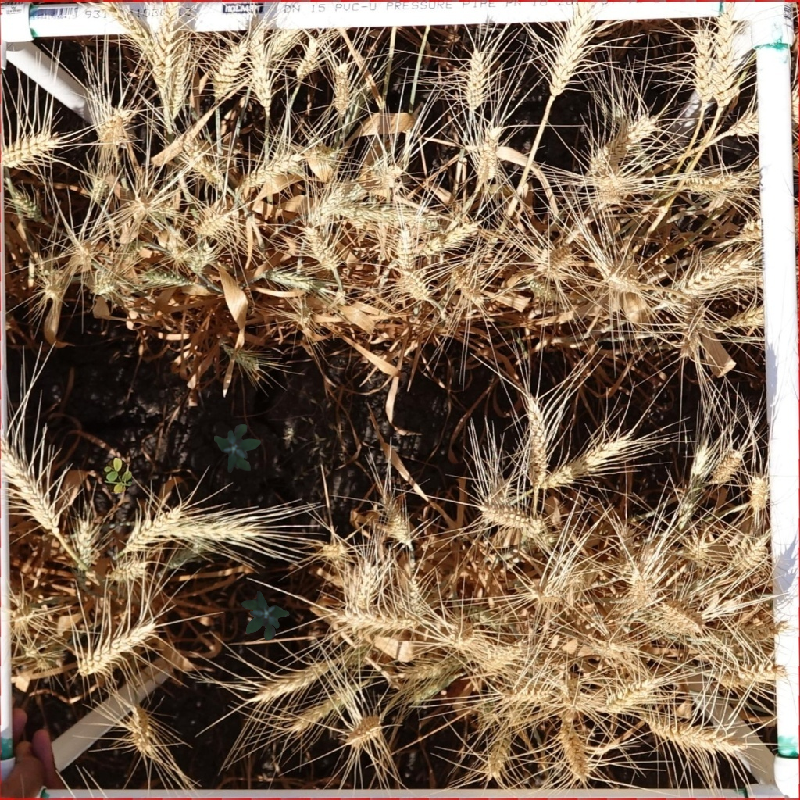spikelet: (1, 443, 66, 538), (539, 427, 636, 490), (653, 251, 752, 311), (541, 4, 599, 101), (144, 12, 194, 124), (72, 616, 159, 678), (641, 708, 746, 758), (256, 656, 337, 713), (669, 437, 716, 532), (622, 525, 671, 610), (292, 686, 365, 738), (167, 511, 262, 550), (517, 390, 554, 484), (106, 2, 159, 67), (121, 501, 186, 553), (241, 144, 307, 195), (601, 109, 659, 167), (710, 7, 739, 118), (596, 669, 665, 715), (303, 175, 364, 226), (475, 495, 547, 538), (208, 34, 252, 103), (528, 560, 602, 601), (554, 715, 598, 783), (2, 123, 62, 171), (499, 666, 564, 710), (244, 29, 278, 113), (769, 588, 800, 679), (458, 42, 495, 117), (641, 598, 706, 640), (688, 9, 715, 110), (586, 150, 629, 212), (341, 554, 384, 615), (724, 527, 772, 581), (469, 121, 507, 187), (121, 700, 162, 761), (298, 220, 344, 273), (91, 100, 136, 152), (678, 165, 745, 199), (326, 58, 361, 122), (66, 513, 101, 574), (378, 496, 419, 548), (603, 259, 652, 301), (531, 236, 576, 281), (184, 148, 230, 192), (480, 726, 515, 782), (341, 708, 386, 751), (263, 261, 319, 295), (5, 179, 47, 224), (434, 215, 482, 254), (475, 638, 530, 672), (397, 573, 434, 623), (710, 440, 748, 488), (393, 264, 436, 306), (691, 628, 741, 664), (192, 202, 238, 241), (588, 633, 642, 666), (84, 260, 126, 302), (365, 152, 405, 195), (291, 36, 328, 82), (105, 550, 152, 586), (138, 262, 189, 294), (396, 658, 471, 679), (302, 140, 341, 179), (36, 262, 71, 305), (225, 341, 266, 376), (389, 223, 419, 269), (184, 237, 219, 275), (156, 223, 190, 262), (405, 677, 459, 701), (744, 470, 773, 514), (65, 233, 98, 271), (315, 535, 352, 567), (83, 168, 112, 205)
weed: (230, 582, 296, 649), (214, 424, 261, 473), (94, 454, 140, 499)
